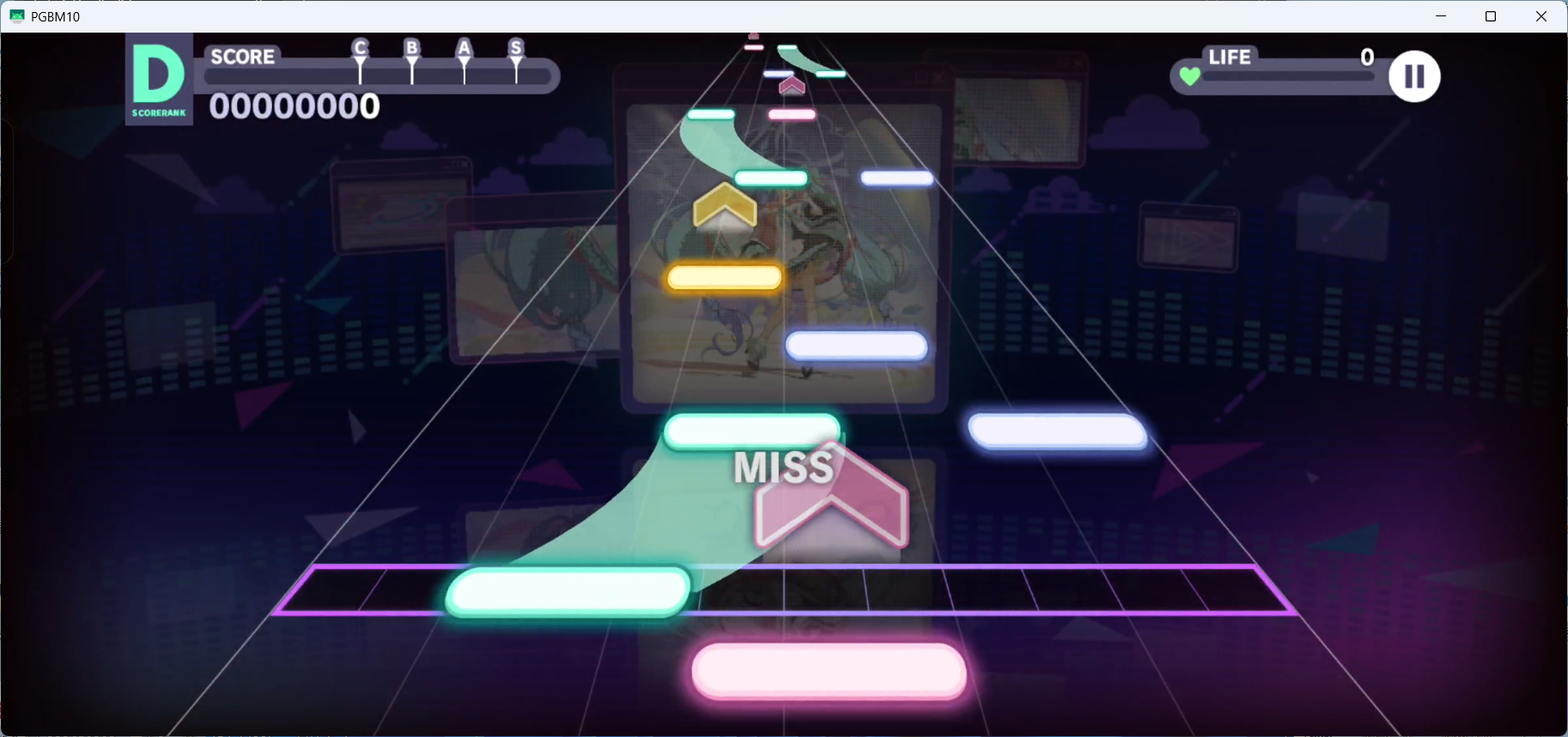flick: (754, 442, 907, 570), (692, 182, 757, 232), (779, 76, 805, 95), (748, 32, 759, 39)
hold: (679, 120, 789, 170), (778, 50, 834, 70)
tap: (691, 643, 969, 704), (447, 565, 690, 620), (665, 413, 841, 453), (969, 414, 1149, 448), (787, 331, 928, 362), (668, 264, 781, 292), (735, 170, 808, 187), (861, 171, 934, 186), (687, 109, 735, 120), (769, 109, 815, 119), (816, 70, 847, 78), (763, 70, 794, 77), (744, 45, 763, 51), (777, 45, 797, 50)
